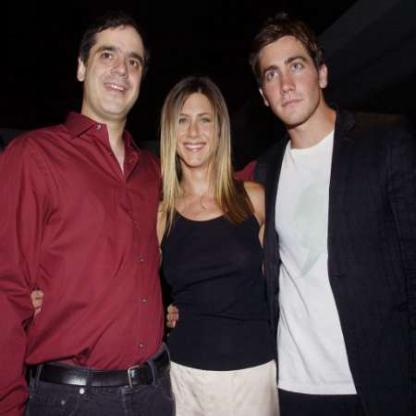face: (259, 22, 319, 127), (87, 17, 146, 117), (172, 81, 222, 169)
